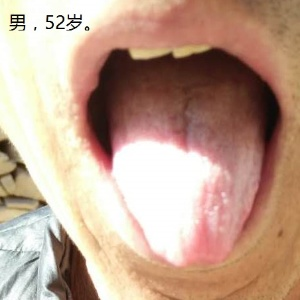st: (103, 104, 270, 260)
